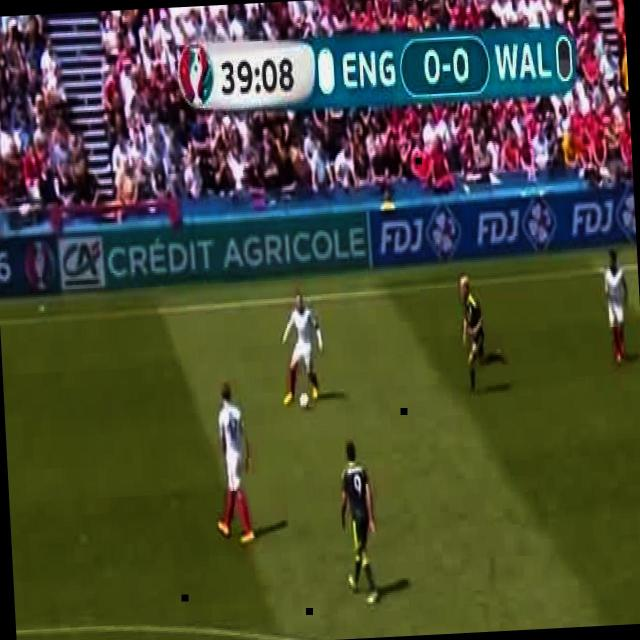ball: (299, 392, 310, 410)
player-white: (336, 437, 381, 608), (209, 381, 255, 547), (457, 274, 509, 392), (278, 292, 326, 404), (600, 250, 632, 364)
